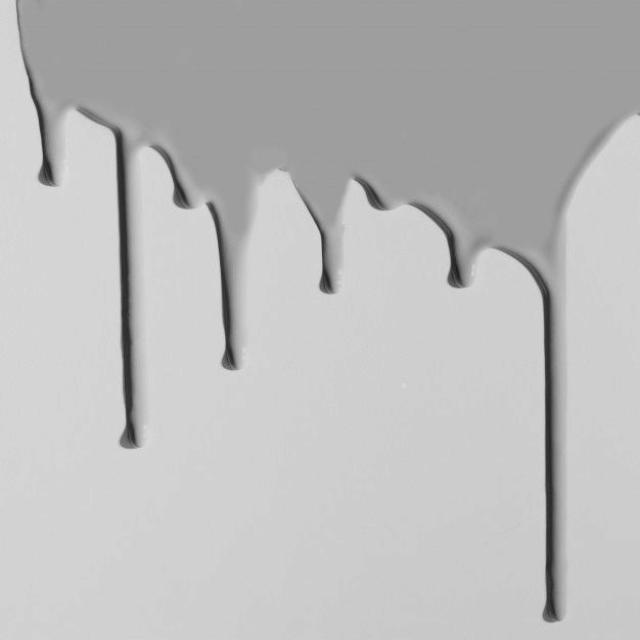paint drips: (23, 34, 590, 630)
